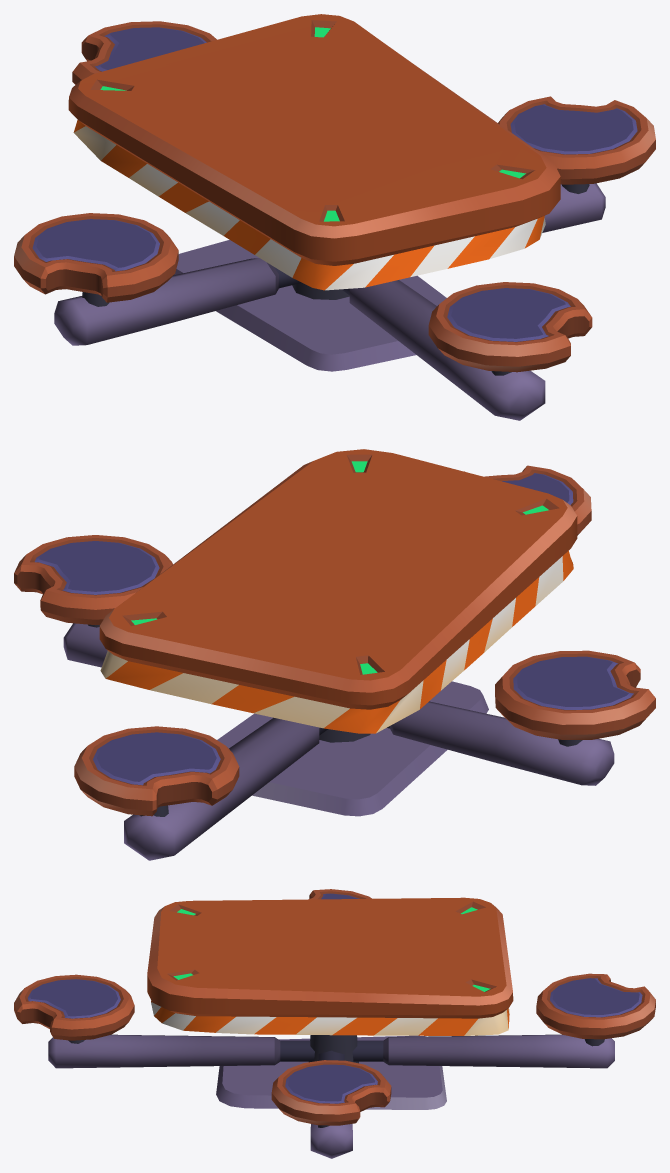
Rendered from SM_Table_01.fbx.
3 views of the same model, one above another, from view 1: azimuth 30°, elevation 25°; view 2: azimuth 150°, elevation 25°; view 3: azimuth 270°, elevation 25° (orthographic). The views are drawn at different scales.
Visible parts, largest first — view 1: SM_Table_01; view 2: SM_Table_01; view 3: SM_Table_01.
Boxes of the visible parts, x1,y1,x2,y2 form: SM_Table_01: [14, 14, 655, 420]; SM_Table_01: [14, 449, 655, 860]; SM_Table_01: [14, 889, 655, 1158].
Size of the model in its own units: 3.85 by 1.1 by 4.72.
